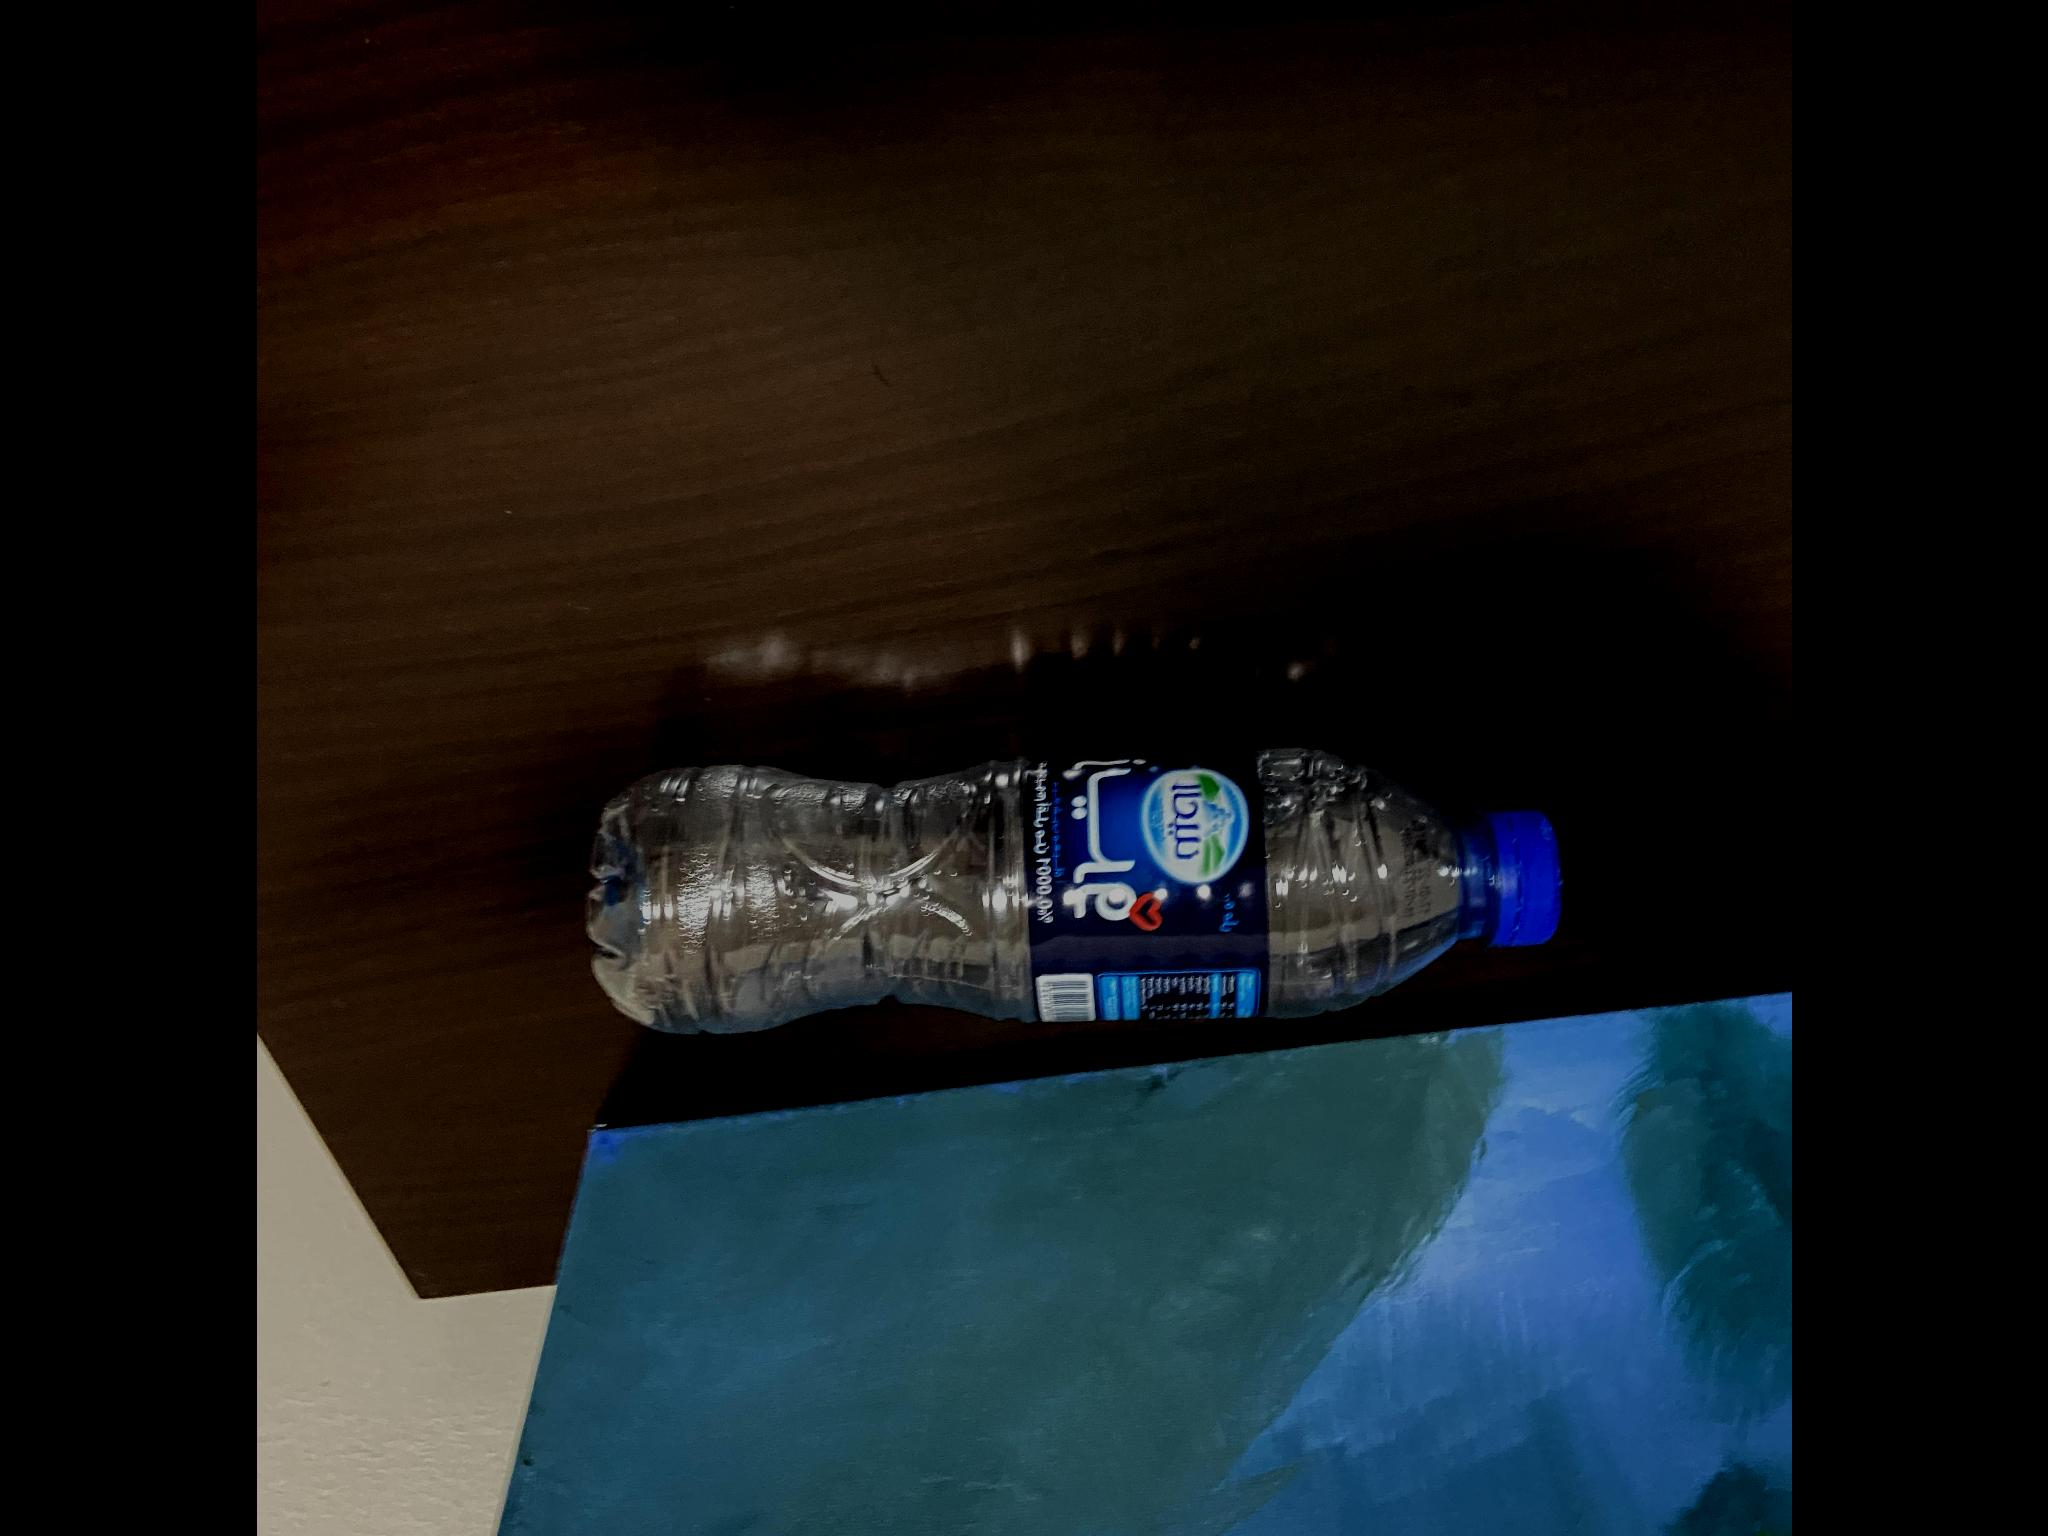bottle: (570, 726, 1564, 1030)
